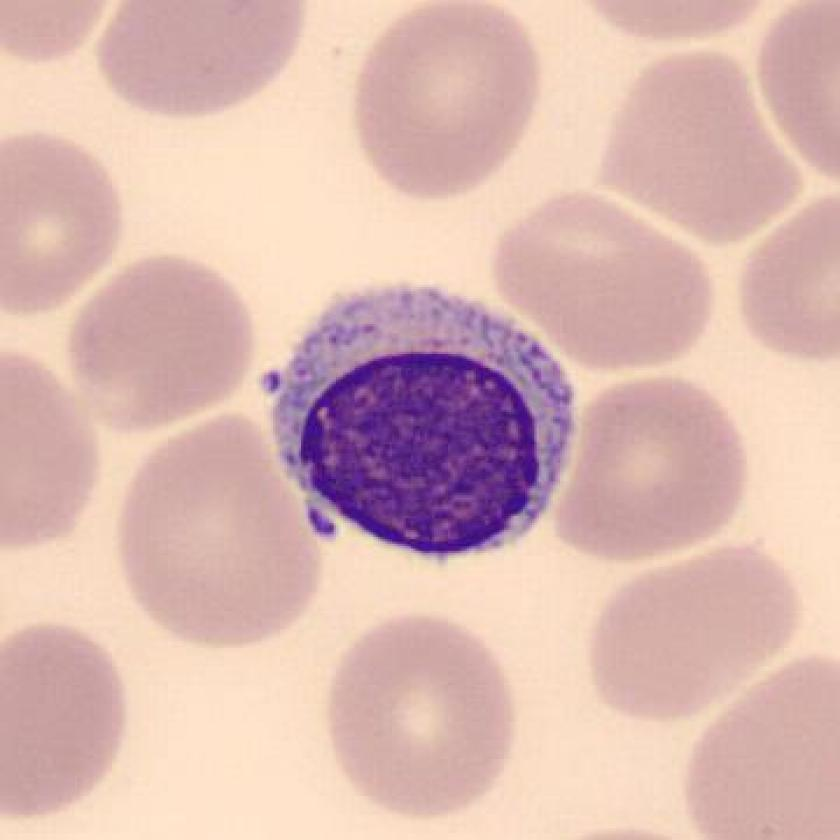lymphocyte: (248, 276, 589, 568)
